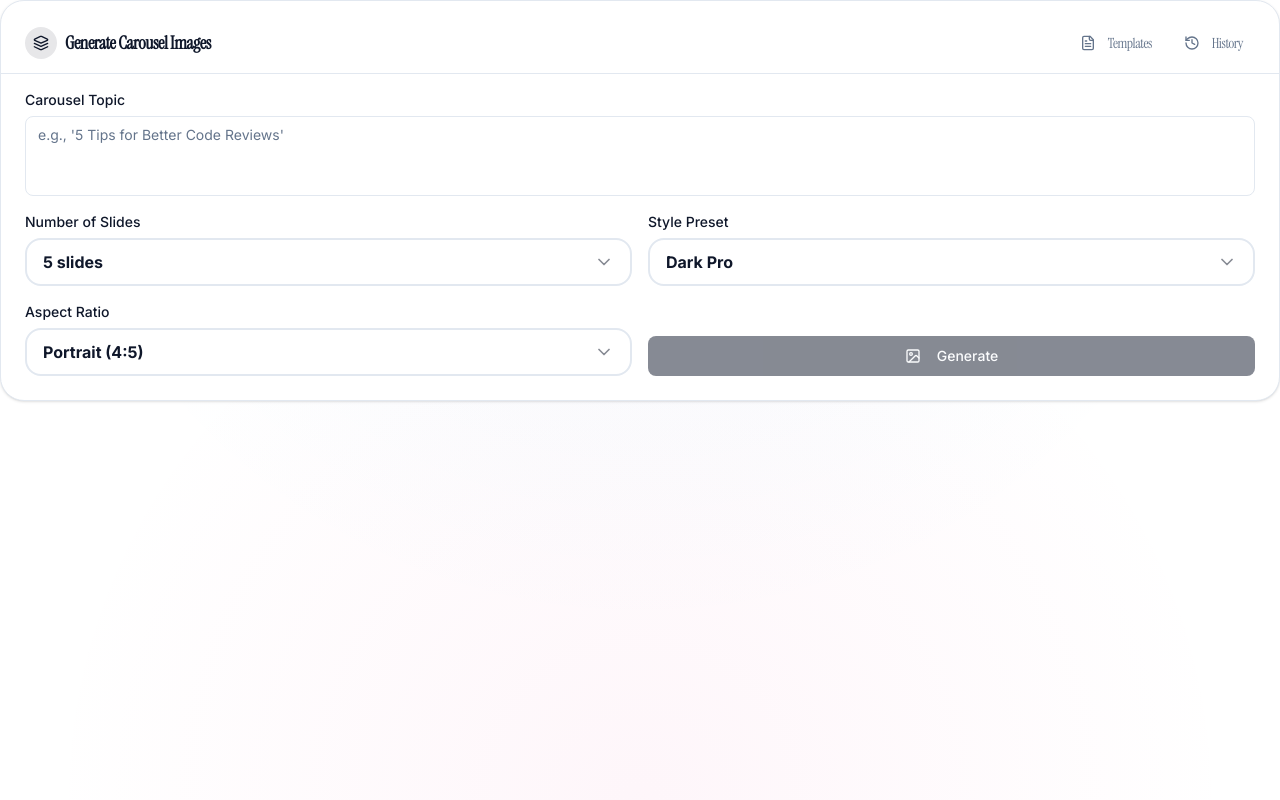
Scenario: CarouselGenerator › Template Categories › should switch to Professional category when clicked
The image size is (1280, 800).
Click the button "Templates".
click(1116, 43)  # box [1068,25,1164,61]
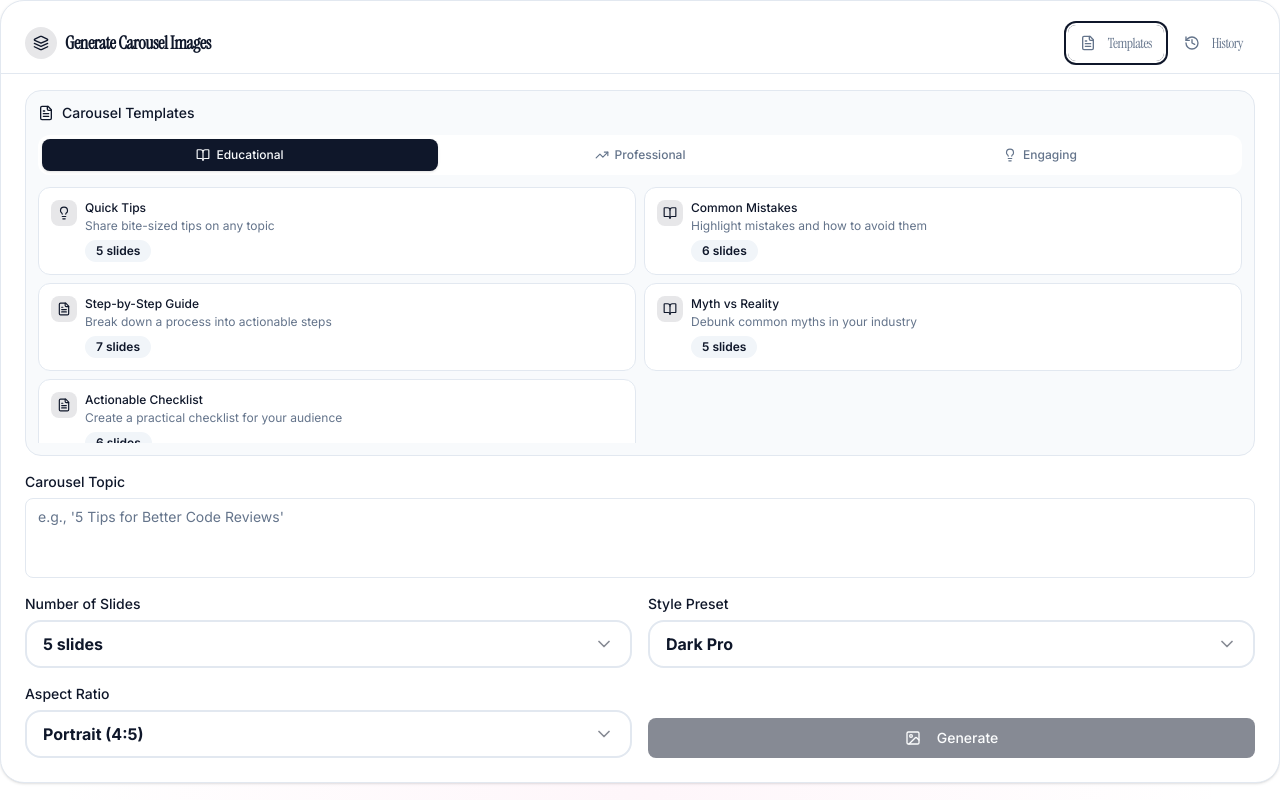
Click the button "Professional".
click(640, 155)  # box [442,139,838,171]
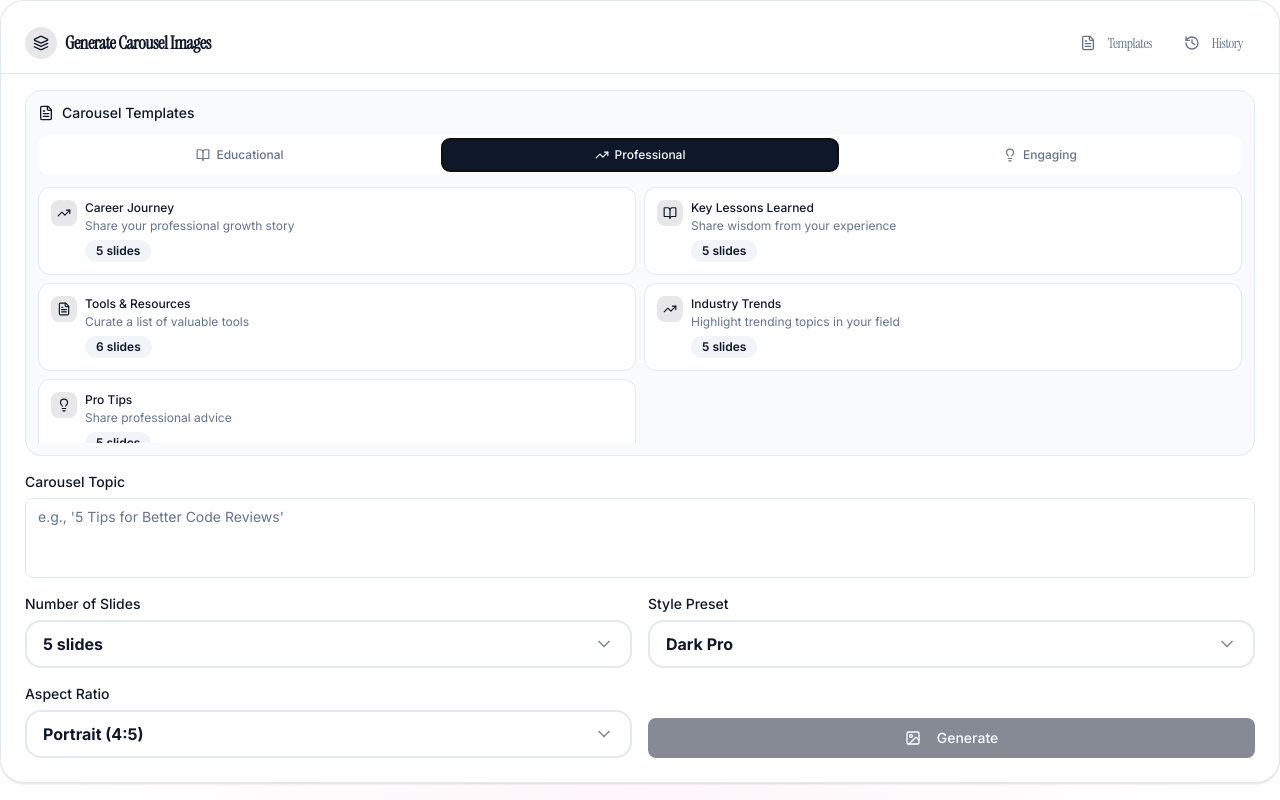
Expected: the text "Career Journey" is shown, [85,200,174,215]
